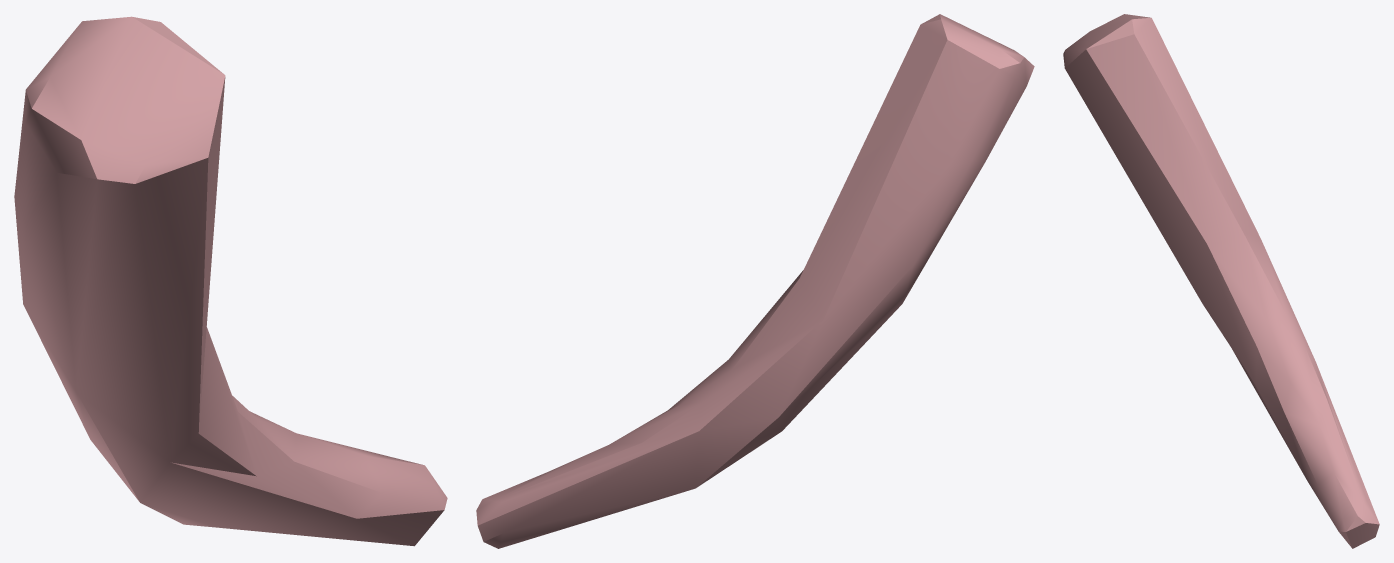
File: fma68233_fj2529.glb
The picture shows the model from 3 angles, left to right: view 1: azimuth 30°, elevation 25°; view 2: azimuth 150°, elevation 25°; view 3: azimuth 270°, elevation 25°; orthographic projection. The views are drawn at different scales.
Parts seen in each view (by area): view 1: FMA68233_FJ2529; view 2: FMA68233_FJ2529; view 3: FMA68233_FJ2529.
Part boxes in pixels (box(x1,y1,x2,y2)): FMA68233_FJ2529: box(14, 16, 447, 546); FMA68233_FJ2529: box(476, 14, 1034, 548); FMA68233_FJ2529: box(1063, 14, 1379, 548).
Size of the model in its own units: 0.0134 by 0.0162 by 0.0114.
